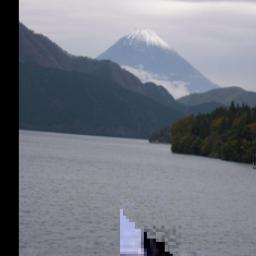Crow: (121, 0, 211, 256)
